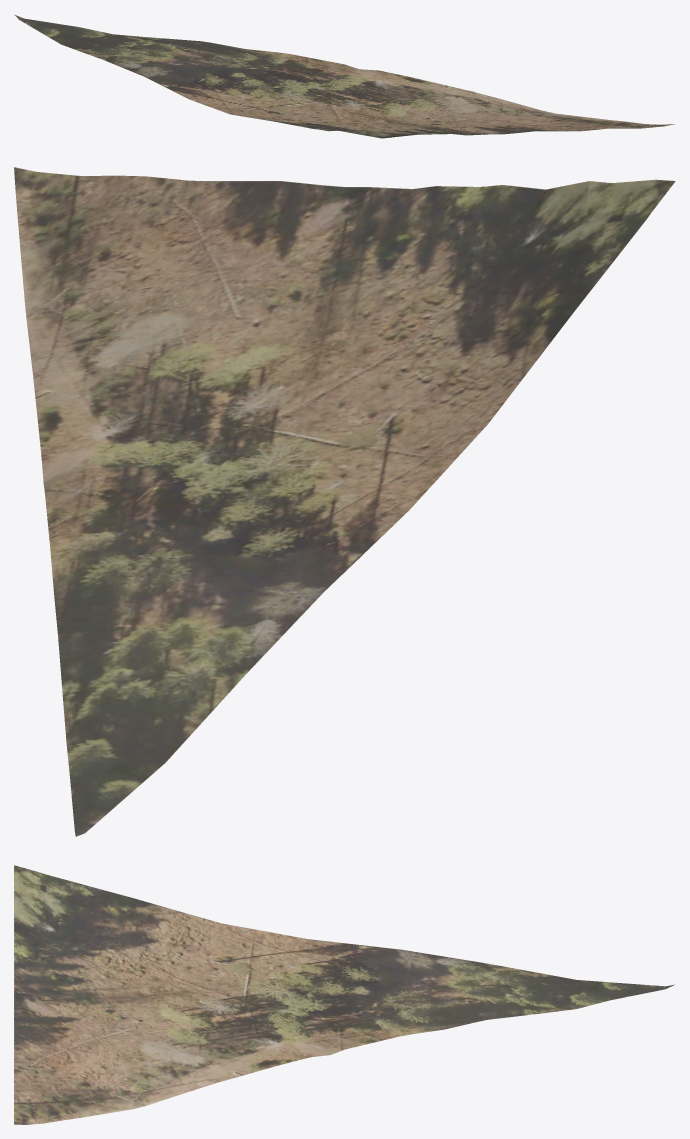
The model's file is CM_Terrain_24493735_6816927.fbx.
The picture shows the model from 3 angles, top to bottom: view 1: azimuth 30°, elevation 25°; view 2: azimuth 150°, elevation 25°; view 3: azimuth 270°, elevation 25°; orthographic projection. The views are drawn at different scales.
Parts seen in each view (by area): view 1: CM_Terrain_24493735_6816927_LOD0; view 2: CM_Terrain_24493735_6816927_LOD0; view 3: CM_Terrain_24493735_6816927_LOD0.
Boxes of the visible parts, x1,y1,x2,y2 form: CM_Terrain_24493735_6816927_LOD0: [14, 14, 674, 138]; CM_Terrain_24493735_6816927_LOD0: [14, 167, 675, 836]; CM_Terrain_24493735_6816927_LOD0: [14, 865, 674, 1124].
Size of what is drawn, in the model's own units: 71.33 by 22.68 by 112.
